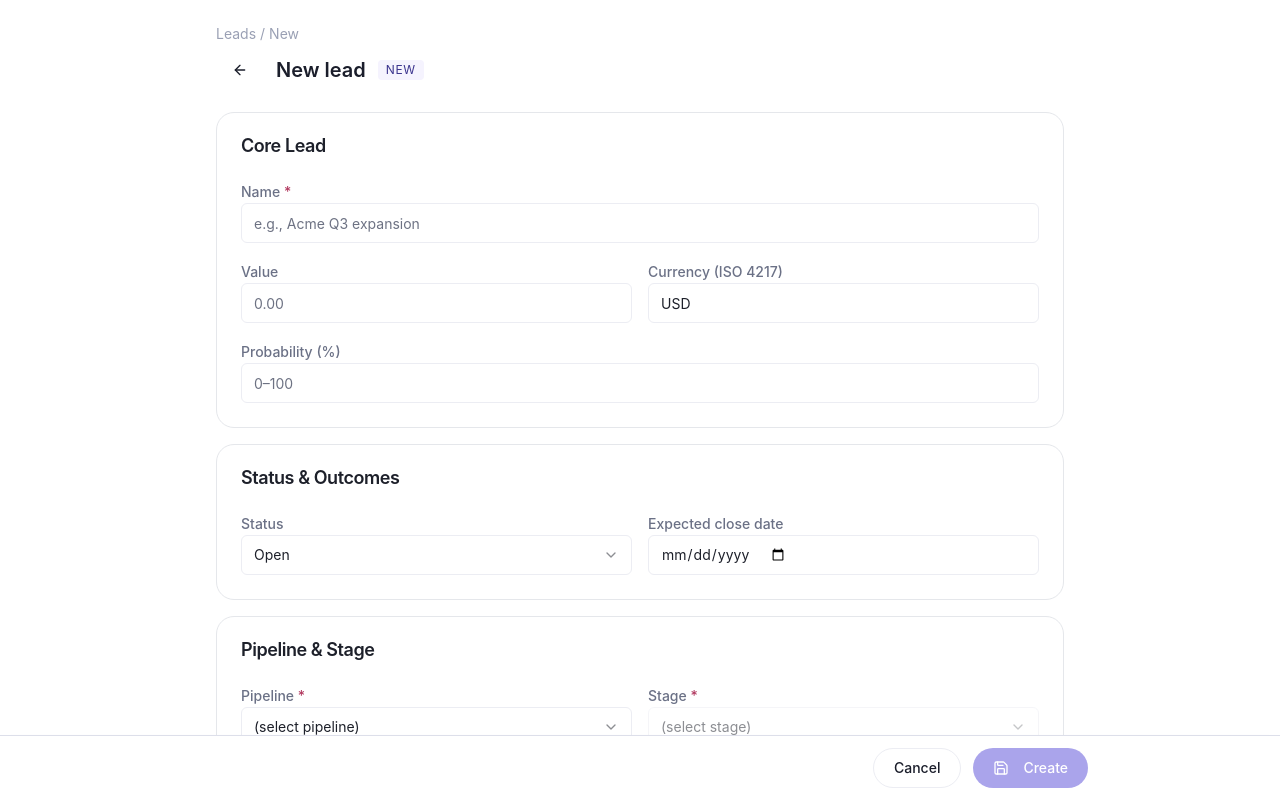
Test: KAN-938 — OpportunityForm › (4) Save button enables on first field change
Type "Acme expansion" into the field labelled "Name *".
click(640, 223); type("Acme expansion")  # box left=241, top=203, right=1039, bottom=243
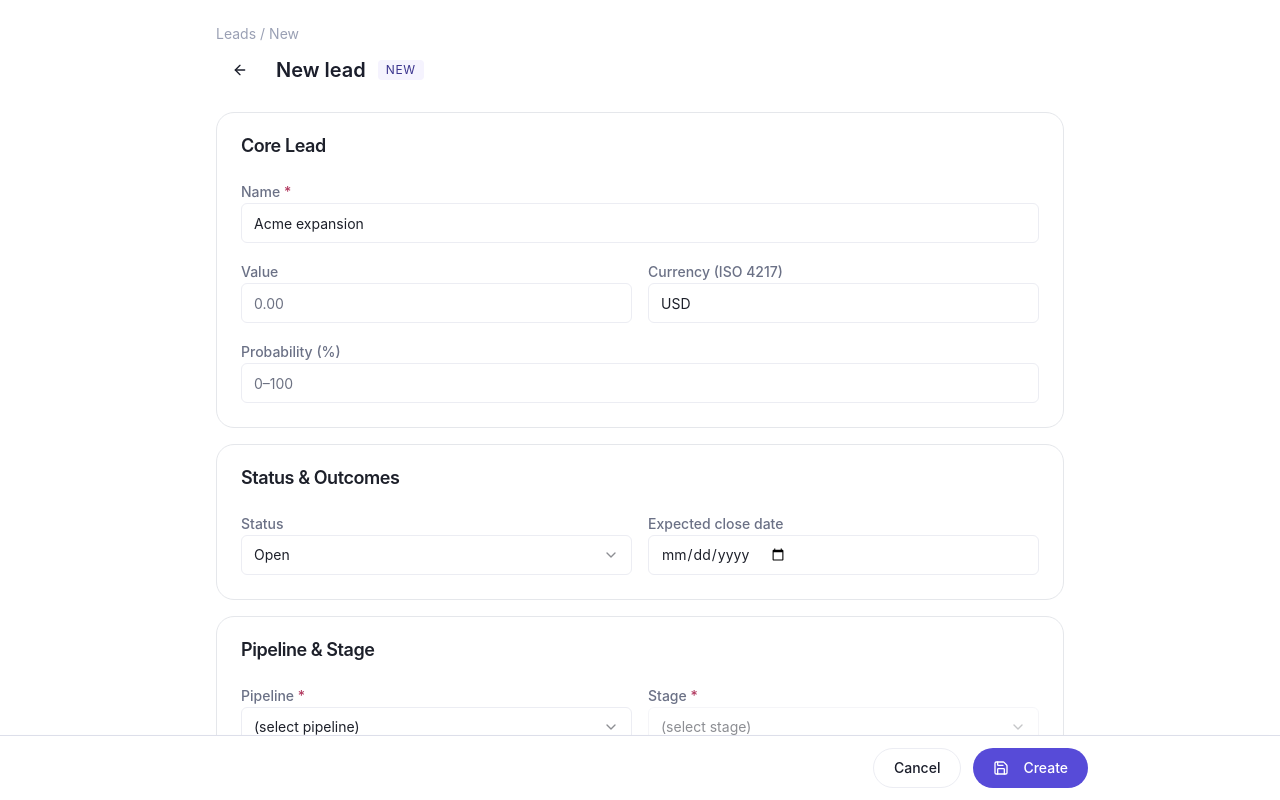
Expected: the button "Create" is enabled, left=973, top=748, right=1088, bottom=788
